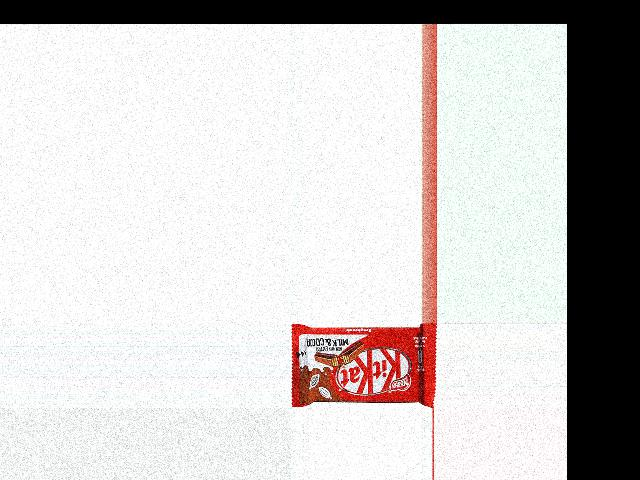chocolate: (290, 322, 435, 407)
